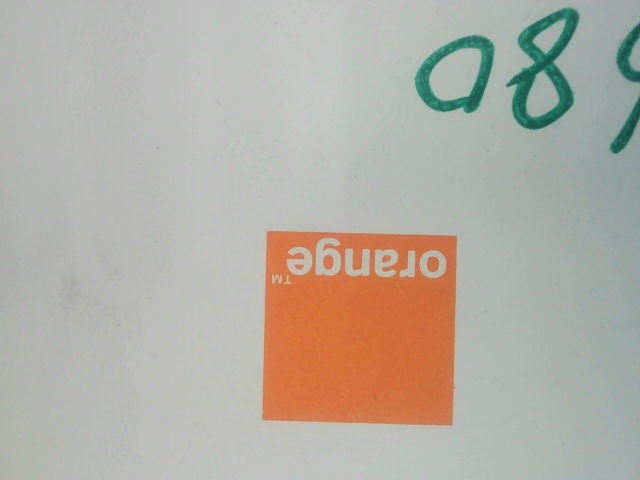AR_Orange: (232, 223, 462, 431)
